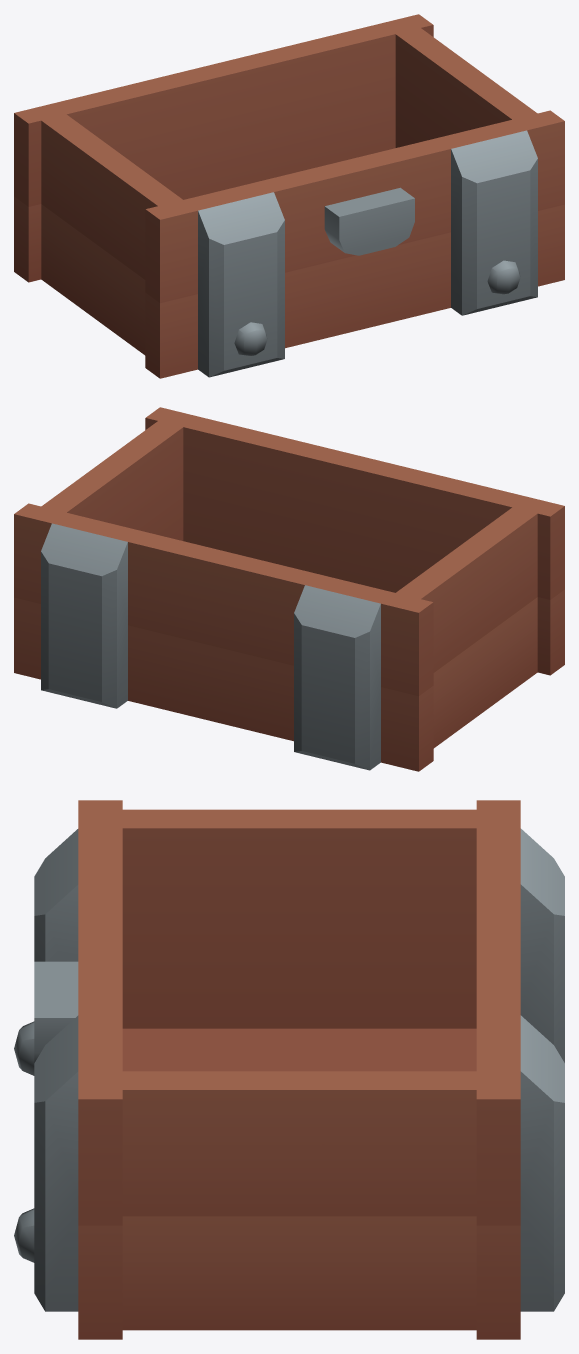
File: chest.gltf
3 renders of one model, top to bottom at view 1: azimuth 30°, elevation 25°; view 2: azimuth 150°, elevation 25°; view 3: azimuth 270°, elevation 25°, orthographic. The views are drawn at different scales.
Visible parts, largest first — view 1: chest; view 2: chest; view 3: chest.
Part boxes in pixels (x1,y1,x2,y2): chest: (14,14,564,378); chest: (14,407,564,771); chest: (14,800,564,1339).
Bounding box in the file's own units: 1.6 × 0.6 × 1.25.
1 material, 1 textured.
